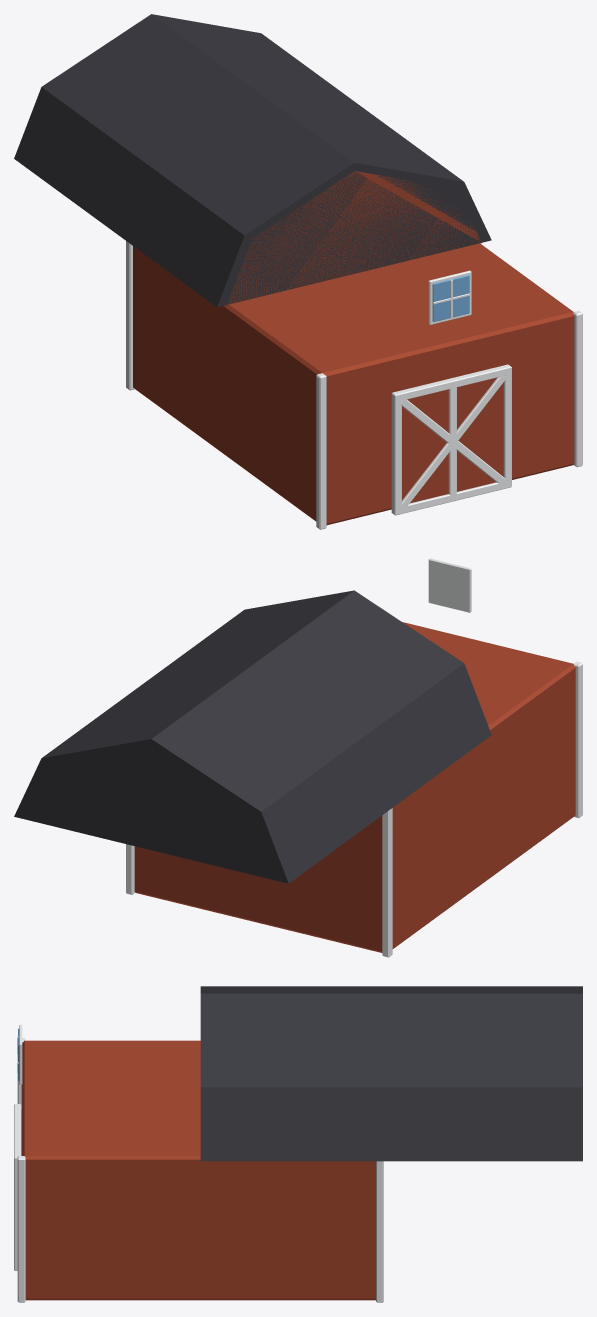
File: Barn.fbx
3 renders of one model, top to bottom at view 1: azimuth 30°, elevation 25°; view 2: azimuth 150°, elevation 25°; view 3: azimuth 270°, elevation 25°, orthographic. The views are drawn at different scales.
Parts seen in each view (by area): view 1: Barn; view 2: Barn; view 3: Barn.
Boxes of the visible parts, x1=… form: Barn: x1=14, y1=14, x2=582, y2=529; Barn: x1=14, y1=558, x2=582, y2=957; Barn: x1=14, y1=986, x2=582, y2=1302.
Size of the model in its own units: 15 by 13.9 by 28.58.
1 material, 1 textured.
